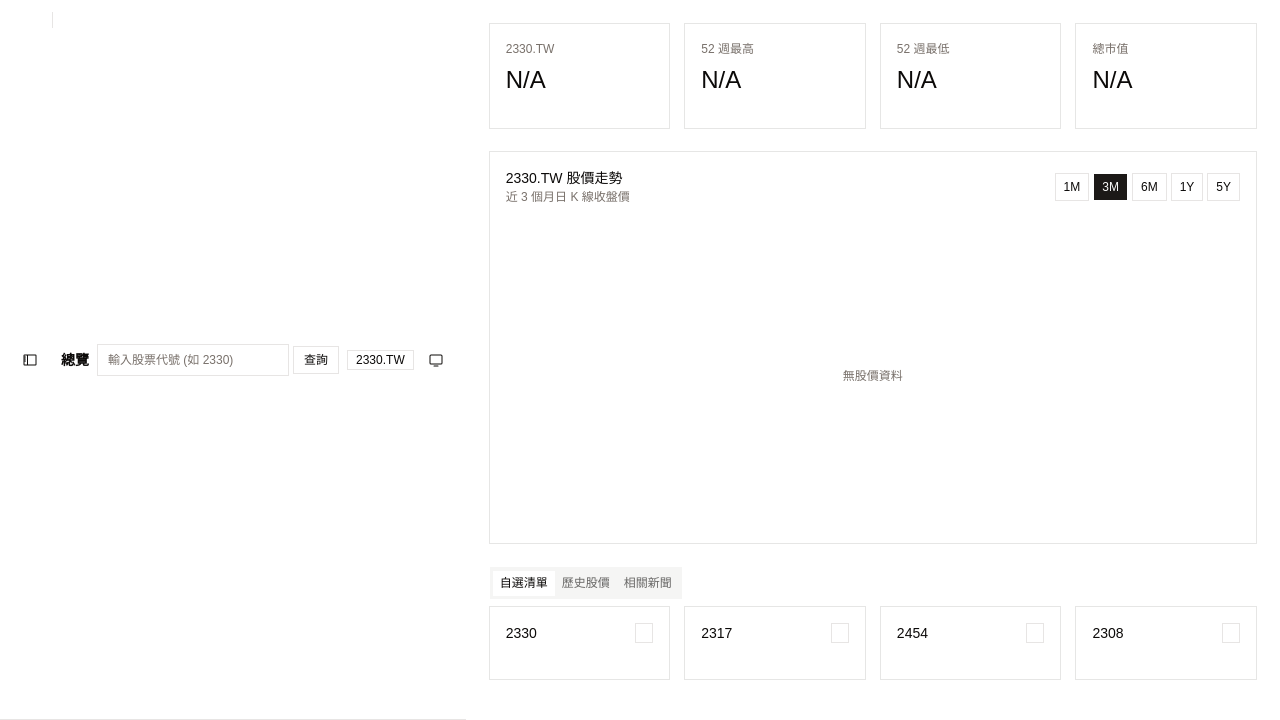
Test: Dashboard - Range Selector › updates description when range changes
Step 1. Click the button "1Y" → (1187, 187), box [1171, 173, 1203, 201]
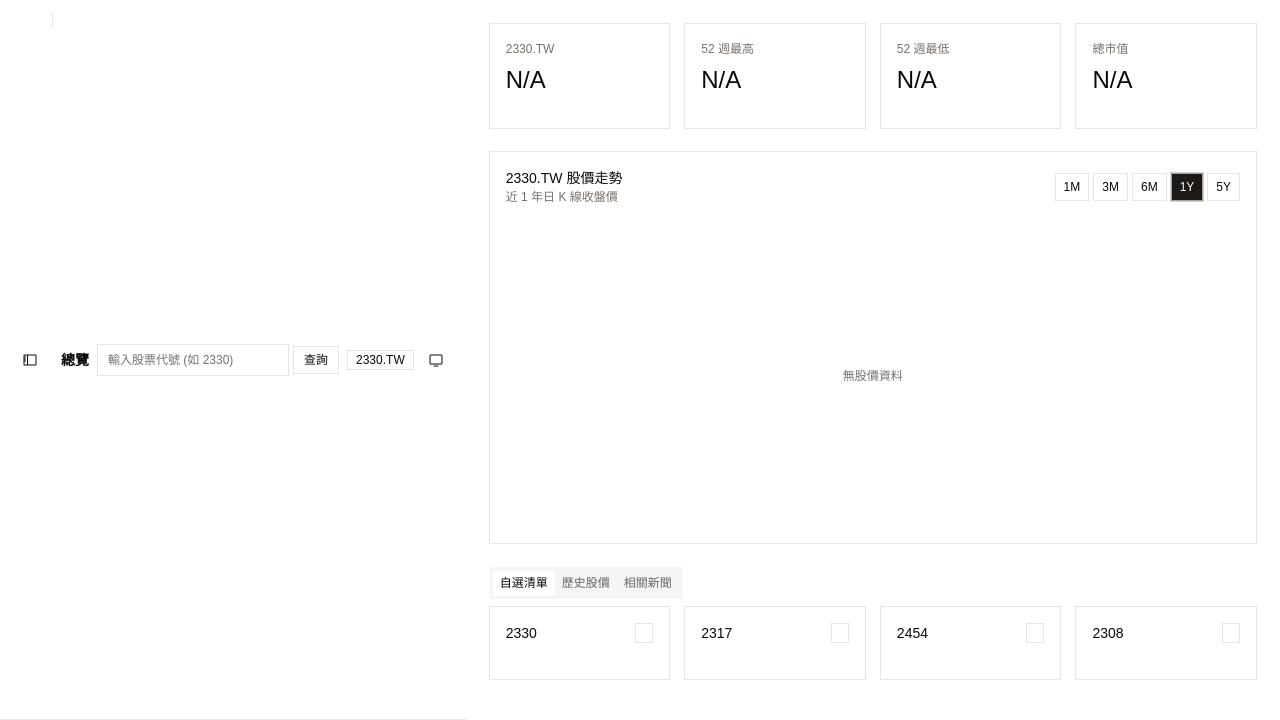
Now the text "近 1 年" is shown, box [506, 190, 618, 204]
